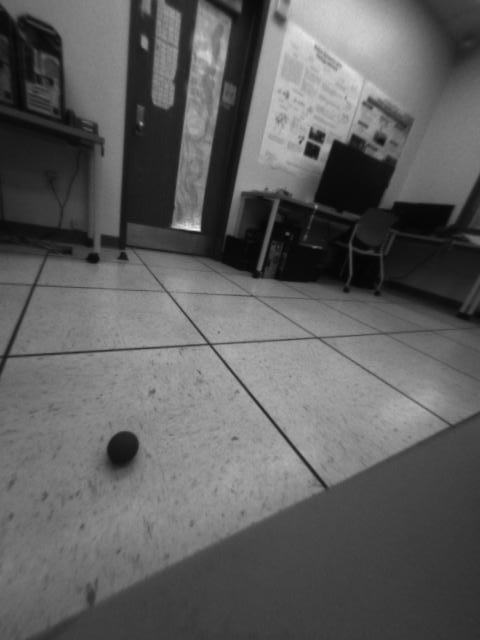dogtoy: (100, 424, 146, 472)
